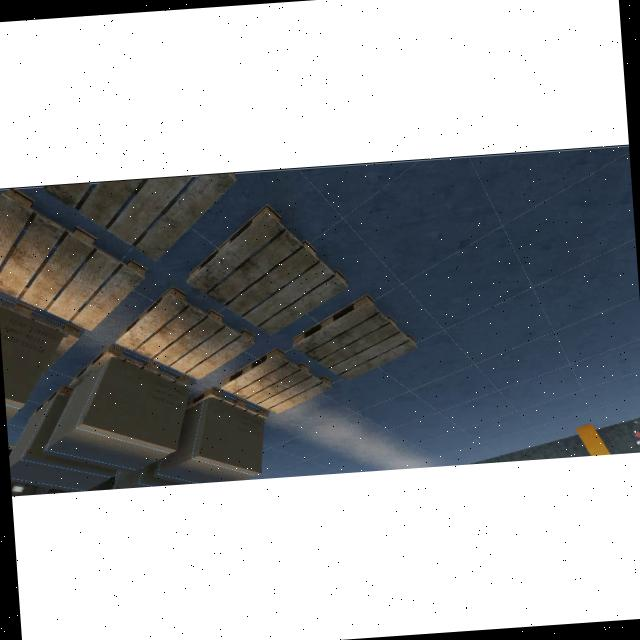wooden_pallet: (186, 203, 347, 334), (116, 284, 256, 379), (292, 294, 417, 380), (221, 346, 331, 414), (68, 343, 191, 389), (185, 386, 269, 421)
